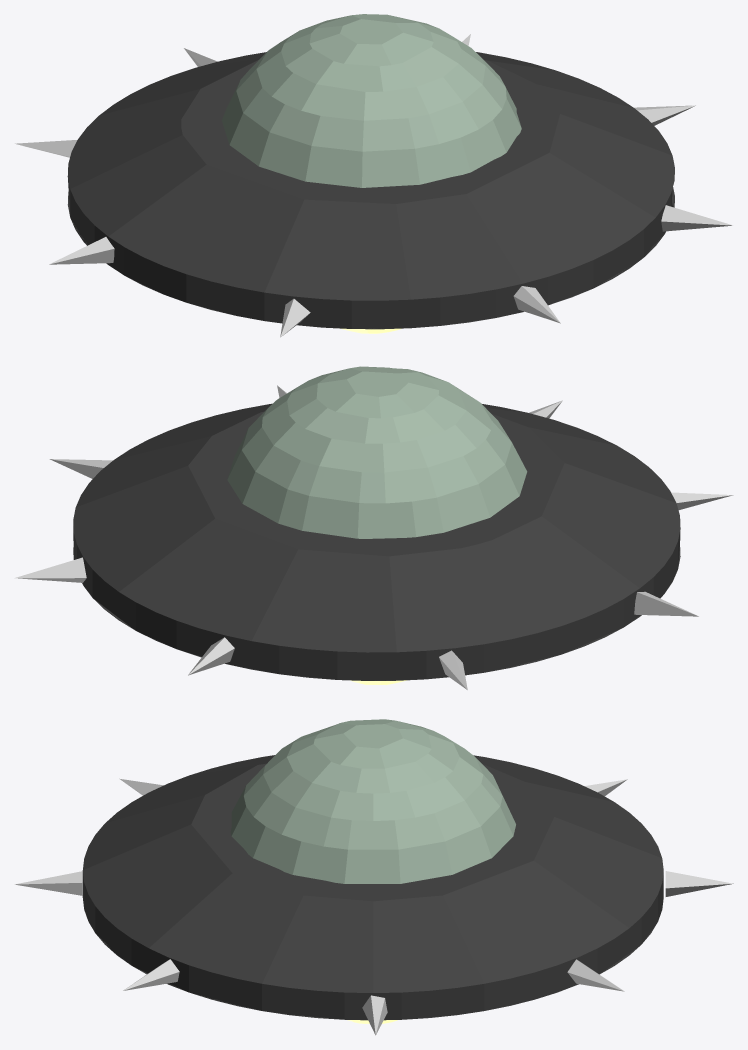
Rendered from ufo-fixed.fbx.
The picture shows the model from 3 angles, top to bottom: view 1: azimuth 30°, elevation 25°; view 2: azimuth 150°, elevation 25°; view 3: azimuth 270°, elevation 25°; orthographic projection. The views are drawn at different scales.
Visible parts, largest first — view 1: Circle, Cone; view 2: Circle, Cone; view 3: Circle, Cone.
Part boxes in pixels (left/top/right/bottom): Circle: left=67, top=14, right=674, bottom=333; Cone: left=15, top=34, right=732, bottom=337; Circle: left=73, top=366, right=680, bottom=685; Cone: left=14, top=385, right=733, bottom=689; Circle: left=82, top=719, right=663, bottom=1023; Cone: left=14, top=778, right=733, bottom=1035.
Size of the model in its own units: 796 by 342 by 800.
